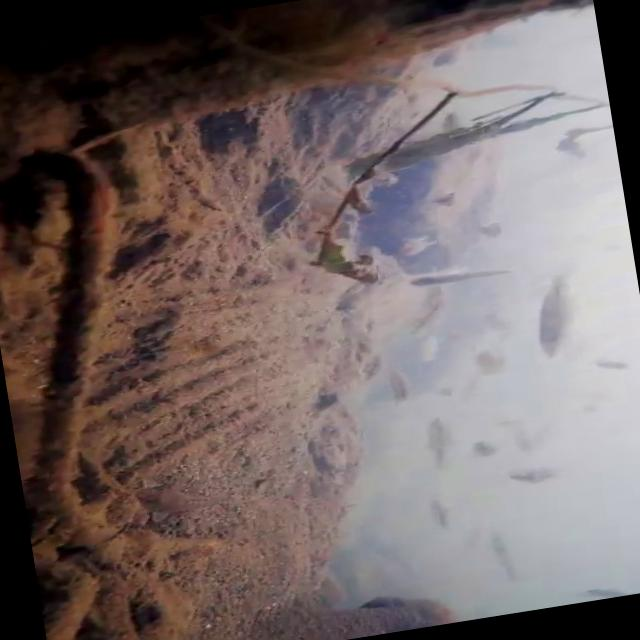Cakil Baligi: (522, 270, 594, 358), (484, 524, 536, 584), (413, 414, 471, 466), (408, 260, 512, 288), (377, 362, 423, 407)
